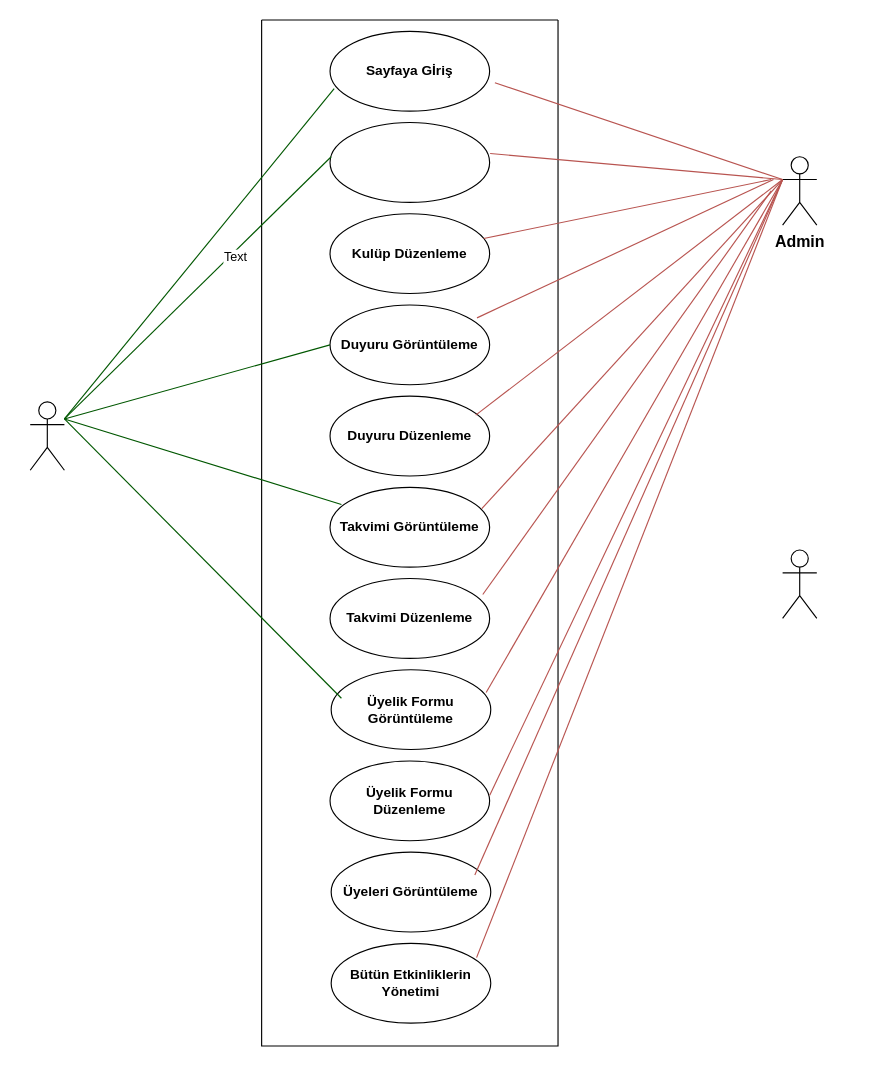
This 871x1066 diagram has some shape labels left out. The shapes that lost their labels are listed below. From the top down, each one's centre as x and y in pixels, then its label:
At point (409, 161): "Kulüp Görüntüleme".
At point (46, 435): "Öğrenci".
At point (799, 583): "Kulüp Başkanı".
